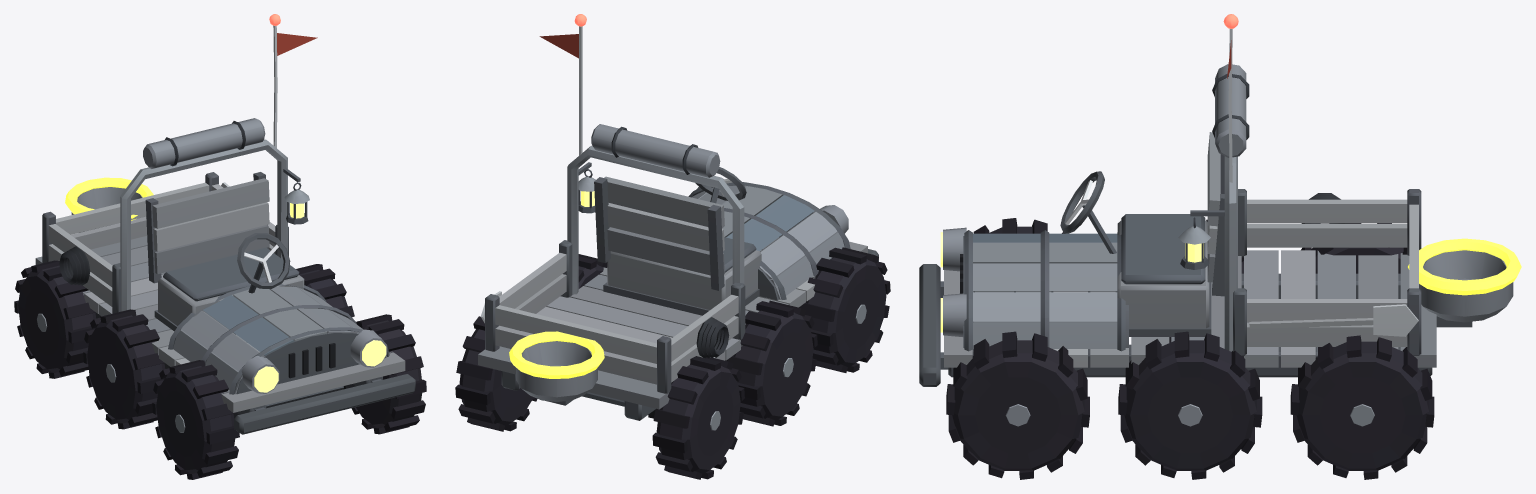
Rendered from rover.glb.
3 views of the same model, side by side, from view 1: azimuth 30°, elevation 25°; view 2: azimuth 150°, elevation 25°; view 3: azimuth 270°, elevation 25° (orthographic). The views are drawn at different scales.
Parts seen in each view (by area): view 1: rover_body, rover_wheel_4, rover_wheel_2, rover_wheel_0, rover_wheel_5, rover_wheel_3, rover_socketRing; view 2: rover_body, rover_wheel_0, rover_wheel_4, rover_wheel_2, rover_wheel_1, rover_socketRing, rover_wheel_3; view 3: rover_body, rover_wheel_5, rover_wheel_3, rover_wheel_1, rover_socketRing, rover_wheel_0, rover_wheel_4.
Boxes of the visible parts, <box> form: rover_body: <box>35,14,415,434</box>; rover_wheel_4: <box>152,360,239,479</box>; rover_wheel_2: <box>83,309,165,429</box>; rover_wheel_0: <box>14,260,95,378</box>; rover_wheel_5: <box>351,314,426,434</box>; rover_wheel_3: <box>296,264,354,317</box>; rover_socketRing: <box>65,177,153,220</box>; rover_body: <box>478,14,878,420</box>; rover_wheel_0: <box>652,356,744,479</box>; rover_wheel_4: <box>800,247,890,372</box>; rover_wheel_2: <box>727,300,817,426</box>; rover_wheel_1: <box>455,316,537,431</box>; rover_socketRing: <box>509,331,604,378</box>; rover_wheel_3: <box>578,254,607,288</box>; rover_body: <box>919,14,1513,386</box>; rover_wheel_5: <box>946,331,1089,479</box>; rover_wheel_3: <box>1118,331,1262,479</box>; rover_wheel_1: <box>1290,335,1434,479</box>; rover_socketRing: <box>1408,238,1521,295</box>; rover_wheel_0: <box>1301,223,1407,273</box>; rover_wheel_4: <box>973,218,1063,233</box>.
Bounding box in the file's own units: 2.97 × 4.54 × 5.6.
